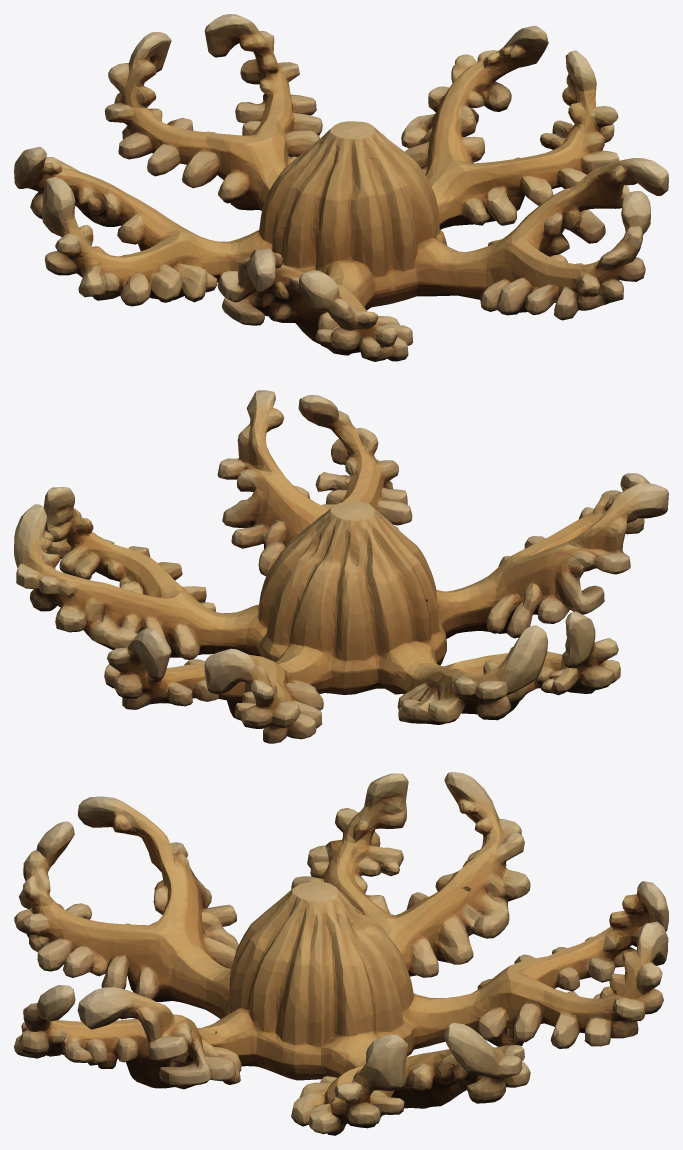
3 renders of one model, top to bottom at view 1: azimuth 30°, elevation 25°; view 2: azimuth 150°, elevation 25°; view 3: azimuth 270°, elevation 25°, orthographic. The views are drawn at different scales.
Parts seen in each view (by area): view 1: world; view 2: world; view 3: world.
Part boxes in pixels (x1=…): world: x1=14, y1=14, x2=668, y2=361; world: x1=14, y1=390, x2=668, y2=743; world: x1=14, y1=772, x2=668, y2=1135.
Size of the model in its own units: 0.9992 by 0.2558 by 0.9667.
Materials: 1 (1 with a texture image).
